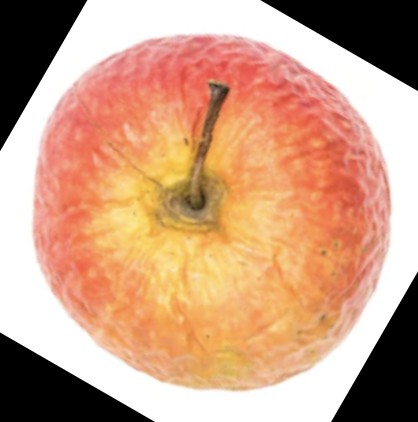rotten_apple: (31, 34, 393, 393)
